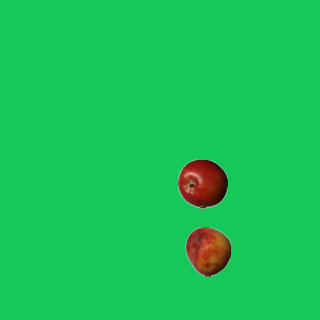Apple Braeburn: (177, 158, 227, 208)
Peach: (183, 226, 233, 276)
